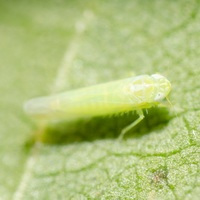insect: (23, 74, 170, 139), (23, 74, 170, 134)
